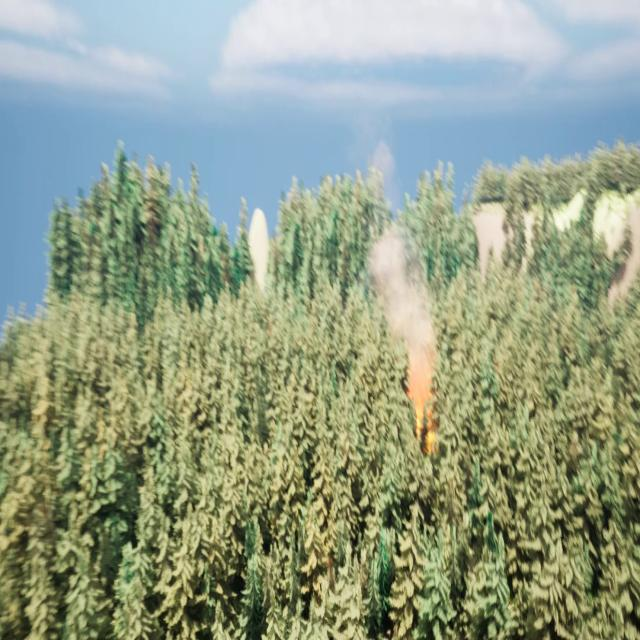smoke: (359, 121, 442, 438)
